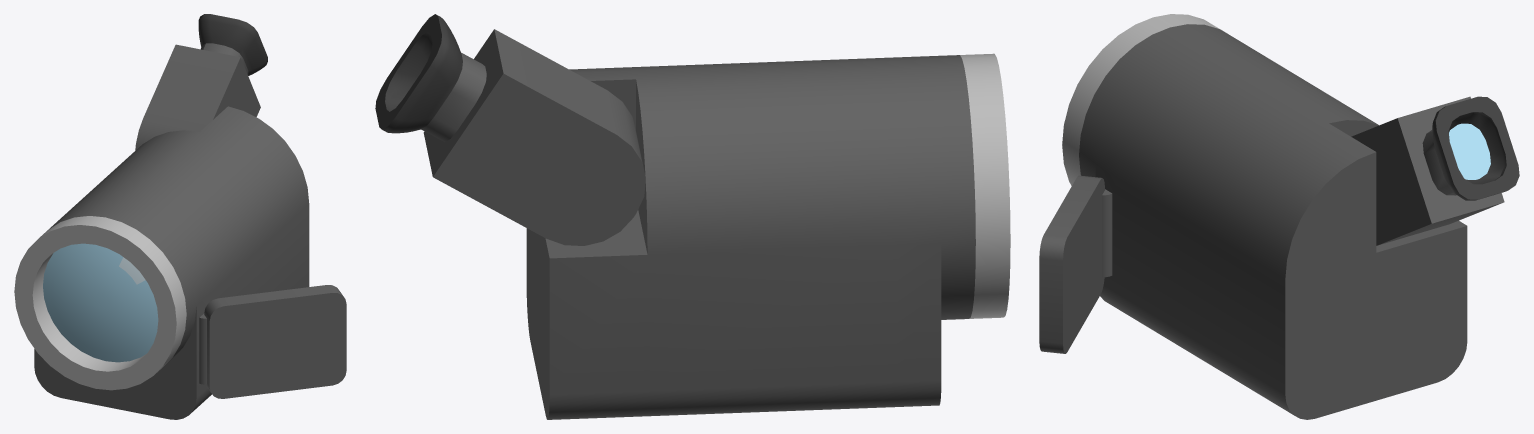
File: video_camera.glb
3 renders of one model, left to right at view 1: azimuth 30°, elevation 25°; view 2: azimuth 150°, elevation 25°; view 3: azimuth 270°, elevation 25°, orthographic. The views are drawn at different scales.
Parts seen in each view (by area): view 1: Cube.942; view 2: Cube.942; view 3: Cube.942.
Part boxes in pixels (box(x1,y1,x2,y2)): Cube.942: box(14, 14, 346, 419); Cube.942: box(375, 14, 1010, 419); Cube.942: box(1039, 14, 1519, 419).
Size of the model in its own units: 2.36 by 1.71 by 2.32.
Materials: 1 (1 with a texture image).
